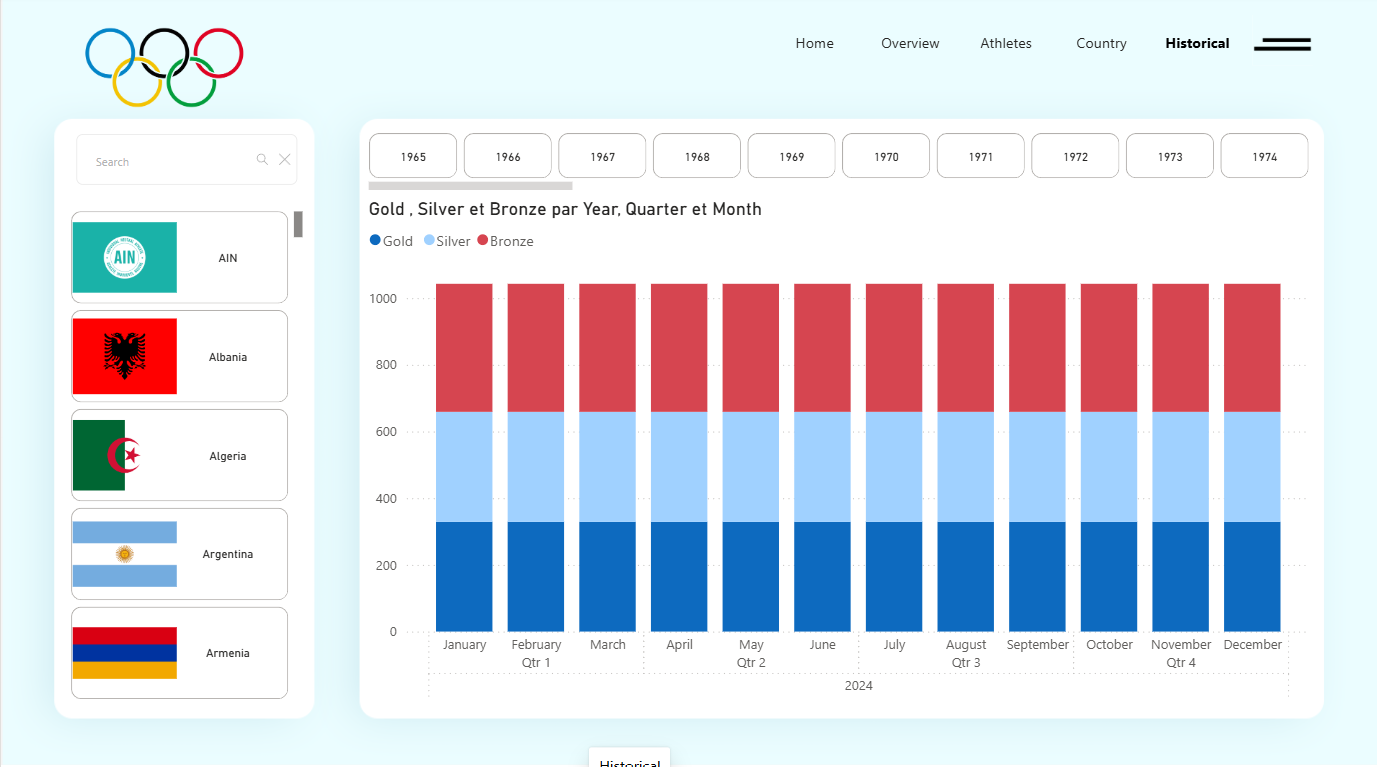

The page's visual inventory and layout, read from the dashboard file:
{"tool":"powerbi","page":{"name":"Historical","canvas":[1280,720],"ordinal":4},"visuals":[{"type":"advancedSlicerVisual","fields":{"Values":["medallists.country"]},"box":[60,196.2,225,468.8],"z":0},{"type":"textSearchSlicerF85E2E78BE4A4D7D9F99ED75B5D71C85","fields":{"fields":["medallists.country"]},"box":[60,120,225,68.8],"z":1000},{"type":"columnChart","fields":{"Category":["Base_File.Date modified.Variation.Date Hierarchy.Year","Base_File.Date modified.Variation.Date Hierarchy.Quarter","Base_File.Date modified.Variation.Date Hierarchy.Month"],"Y":["Sum(medals_total.Gold Medal)","Sum(medals_total.Silver Medal)","Sum(medals_total.Bronze Medal)"]},"box":[337.1,188.6,885.7,475.7],"z":2000},{"type":"advancedSlicerVisual","fields":{"Values":["medallists.birth_date.Variation.Date Hierarchy.Year"]},"box":[337.1,122.9,885.7,65.7],"z":3000},{"type":"actionButton","box":[1163.4,18.8,56.4,47],"z":4000},{"type":"image","box":[67.4,0,170.9,133.7],"z":5000},{"type":"pageNavigator","box":[717.4,18.8,439.3,49.7],"z":6000}]}

Visuals, with their boxes in screenshot pixels (x1, y1, x2, y2), scaled from the page's 1280x720 canvas onto the 1377x767 screenshot:
advancedSlicerVisual - medallists.country: l=65, t=209, r=307, b=708
textSearchSlicerF85E2E78BE4A4D7D9F99ED75B5D71C85 - medallists.country: l=65, t=128, r=307, b=201
columnChart - Base_File.Date modified.Variation.Date Hierarchy.Year x Base_File.Date modified.Variation.Date Hierarchy.Quarter: l=363, t=201, r=1315, b=708
advancedSlicerVisual - medallists.birth_date.Variation.Date Hierarchy.Year: l=363, t=131, r=1315, b=201
actionButton: l=1252, t=20, r=1312, b=70
image: l=73, t=0, r=256, b=142
pageNavigator: l=772, t=20, r=1244, b=73
